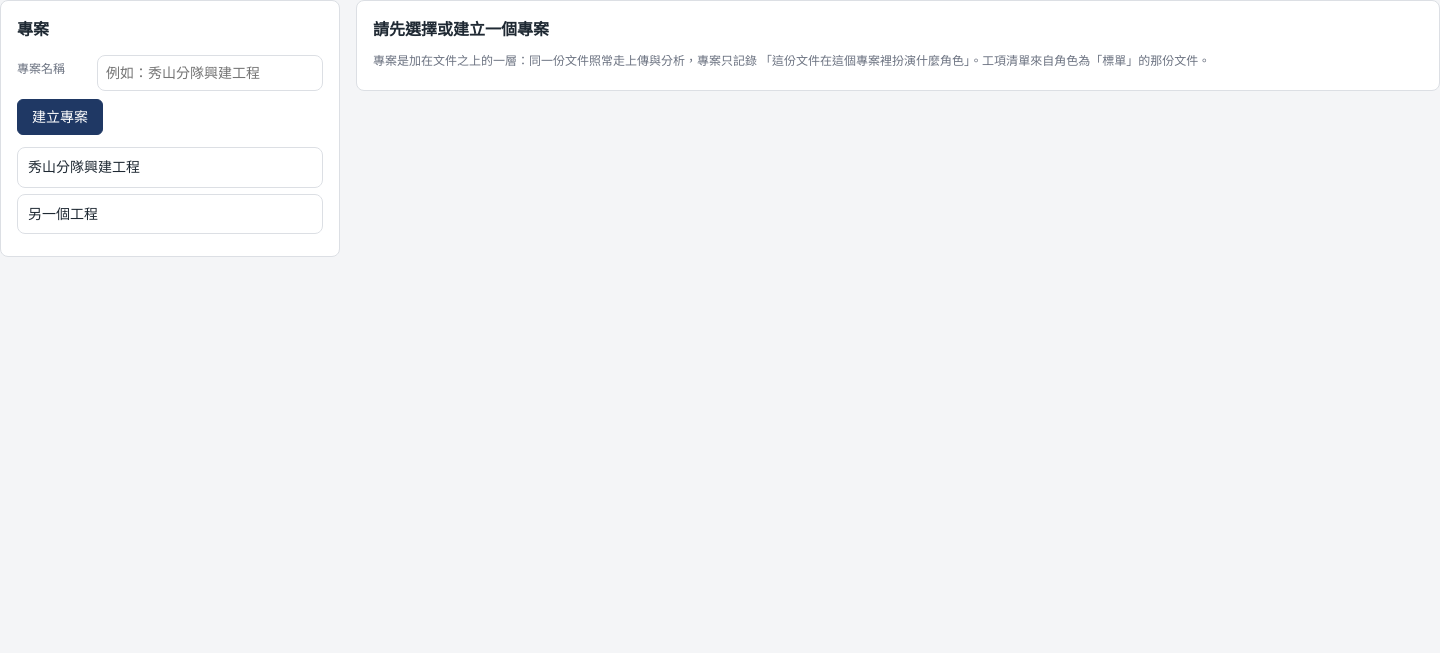
Test case: ProjectWorkItemsPage › 收合再展開，「只看未對到章節」的勾選還在，不會被重設
What coordinates should you click on to do the following:
click the list item "秀山分隊興建工程"
I would click on:
 (170, 168)
Its box is top-left (17, 147), bottom-right (323, 188).
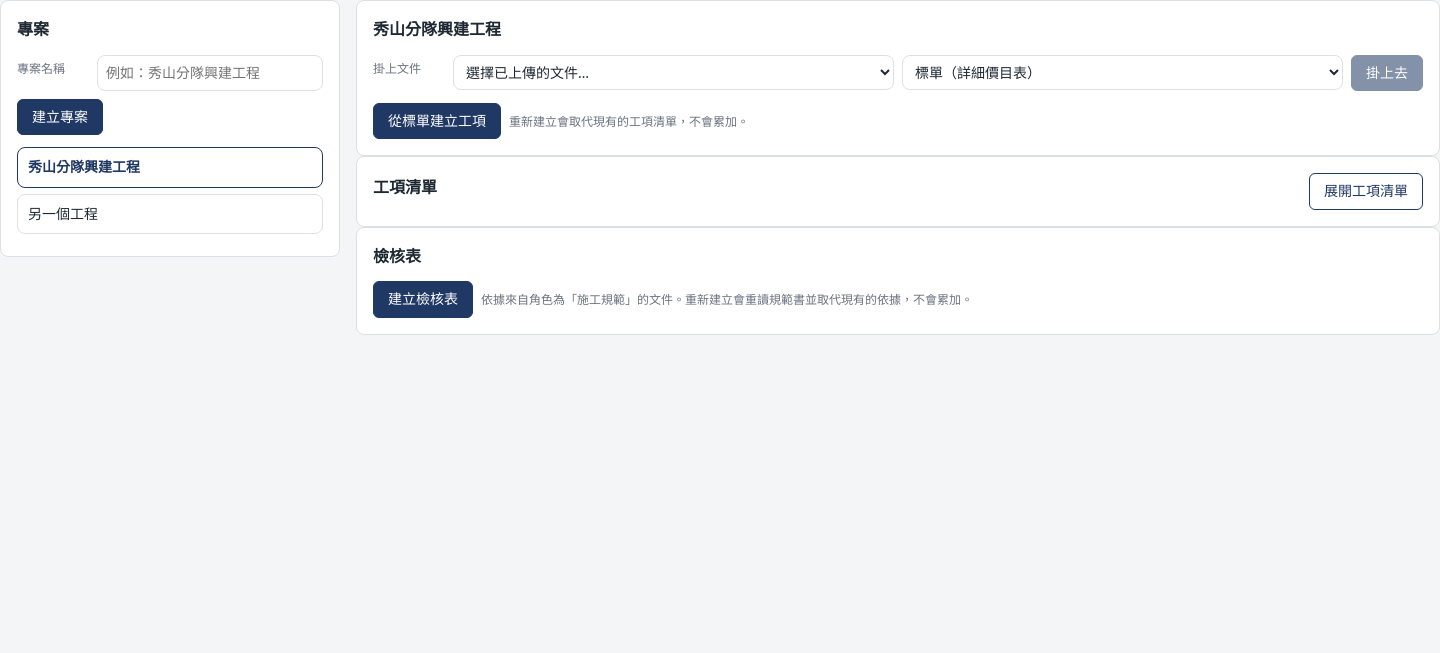
What coordinates should you click on to do the following:
click the button "展開工項清單"
I would click on:
 (1366, 192)
Its box is top-left (1309, 173), bottom-right (1423, 210).
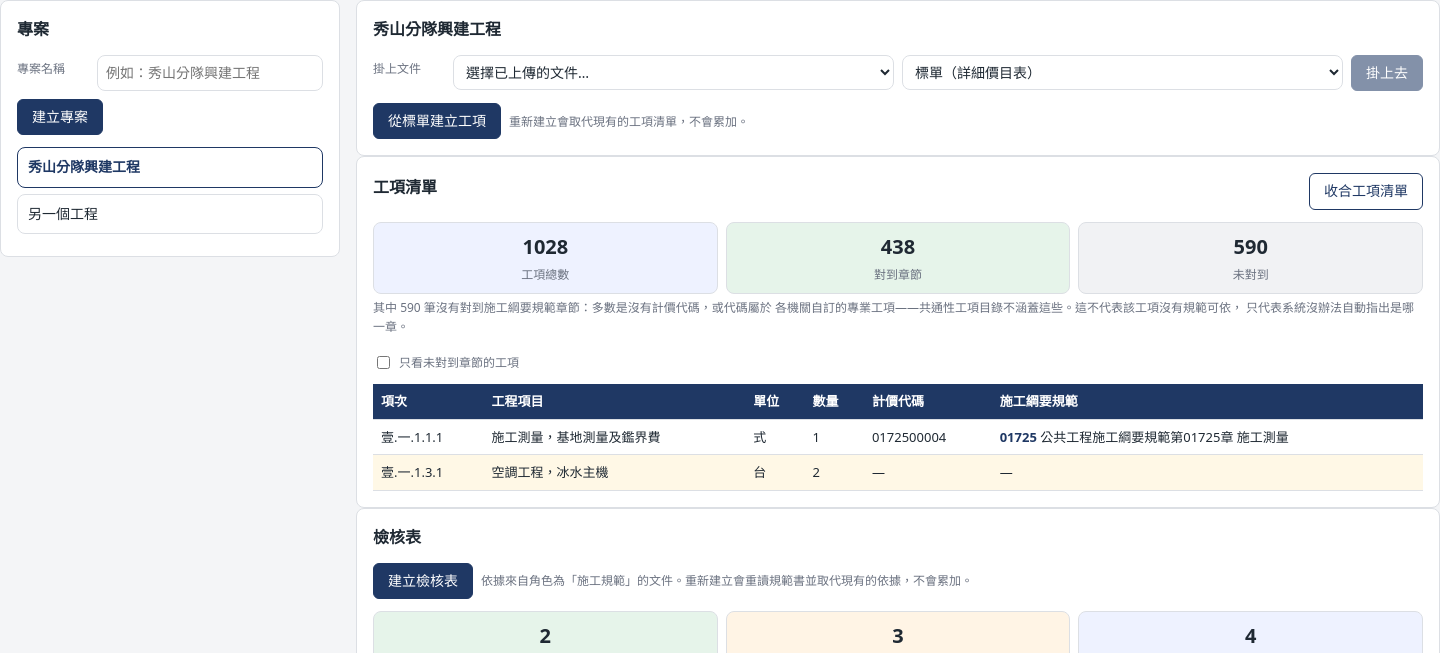
What coordinates should you click on to do the following:
click the checkbox labelled "只看未對到章節的工項"
I would click on:
 (384, 362)
Its box is top-left (377, 356), bottom-right (390, 369).
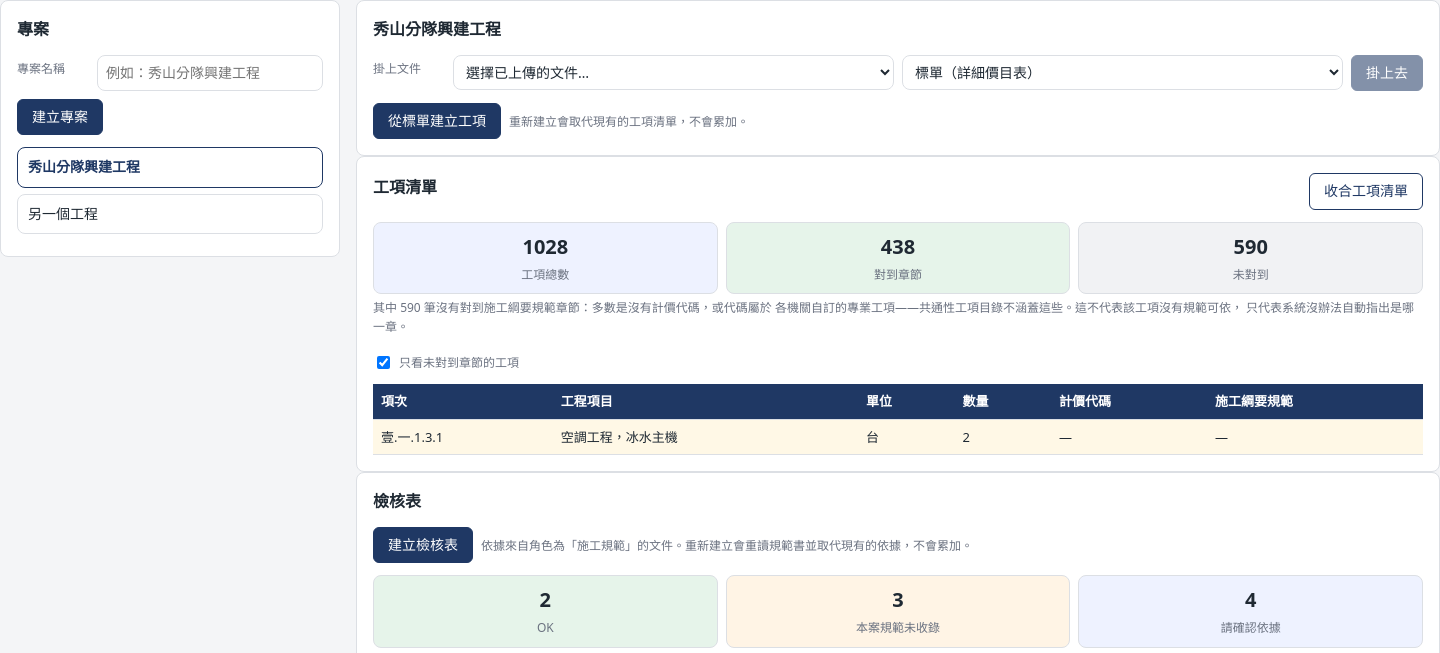
Now the text "壹.一.1.3.1" is shown, box top-left (373, 419), bottom-right (553, 455)
Now the text "壹.一.1.1.1" is gone
What coordinates should you click on to do the following:
click the button "收合工項清單"
I would click on:
 (1366, 192)
Its box is top-left (1309, 173), bottom-right (1423, 210).
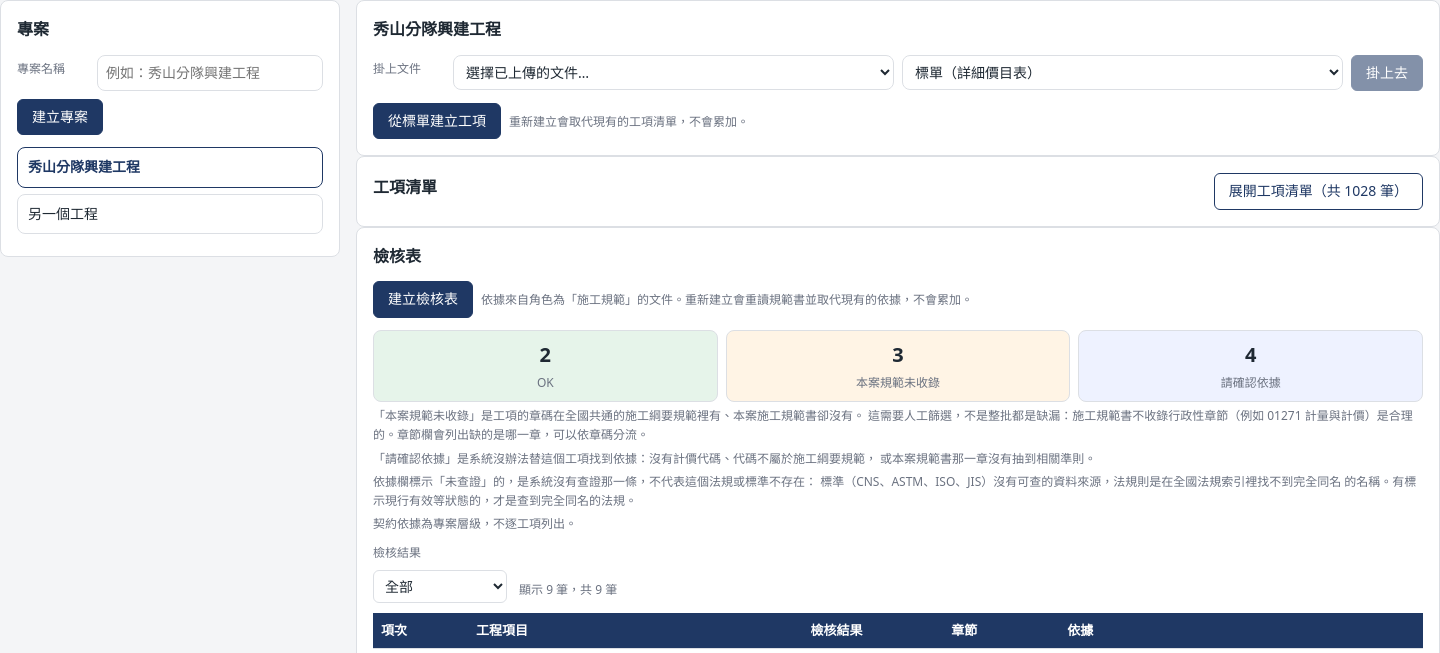
What coordinates should you click on to do the following:
click the button "展開工項清單（共 1028 筆）"
I would click on:
 (1318, 192)
Its box is top-left (1214, 173), bottom-right (1423, 210).
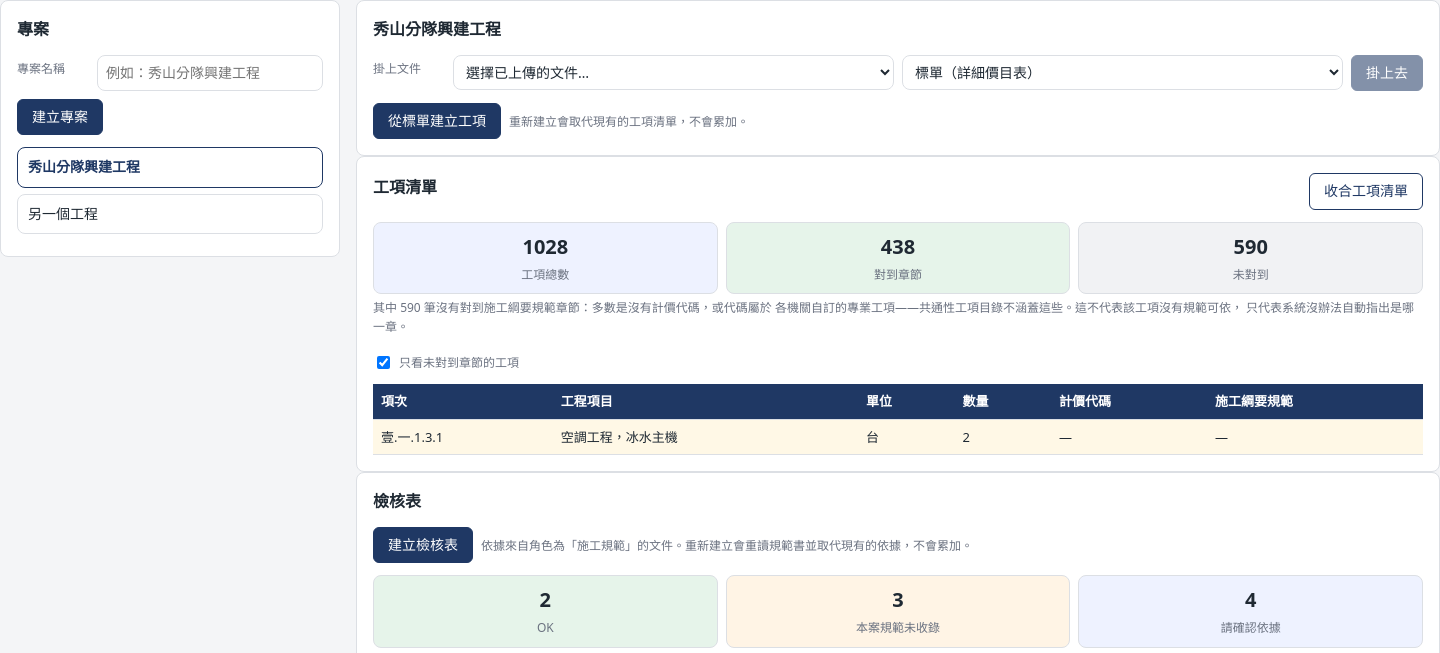
Expected: the text "壹.一.1.1.1" is not shown
Now the checkbox labelled "只看未對到章節的工項" is checked, box top-left (377, 356), bottom-right (390, 369)
Now the text "壹.一.1.3.1" is shown, box top-left (373, 419), bottom-right (553, 455)
